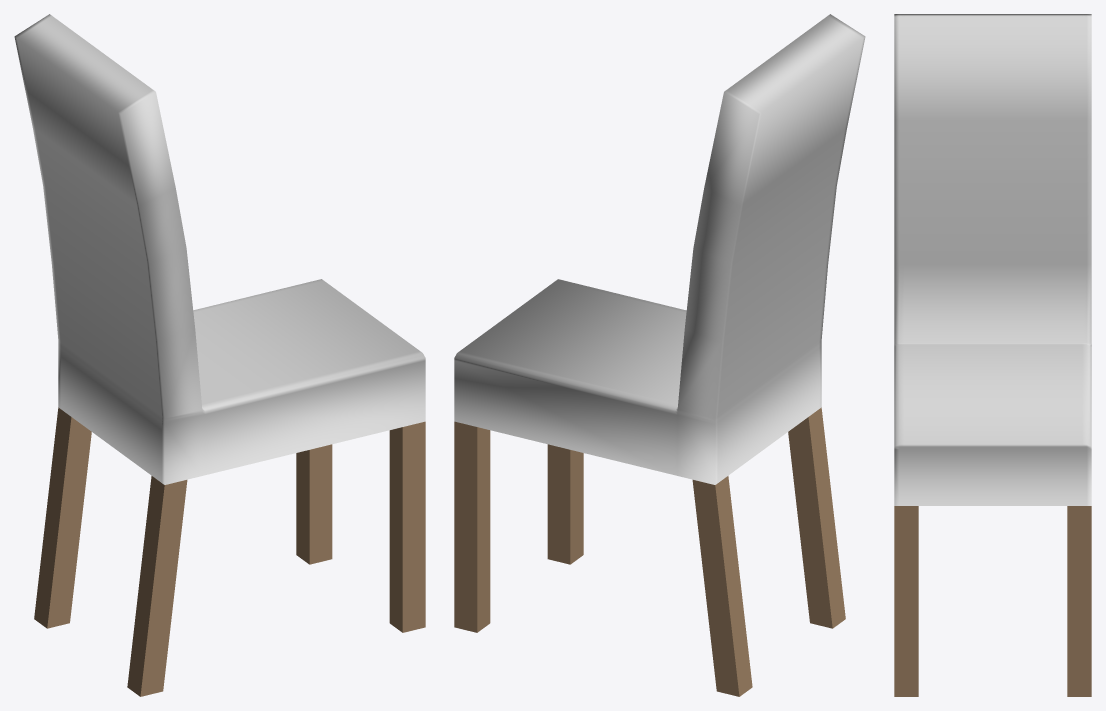
File: diningChar2.fbx
3 views of the same model, side by side, from view 1: azimuth 30°, elevation 25°; view 2: azimuth 150°, elevation 25°; view 3: azimuth 270°, elevation 25° (orthographic). The views are drawn at different scales.
Visible parts, largest first — view 1: Puta, BakBen.001, BakBen, Cube.001, Cube.002; view 2: Puta, BakBen, BakBen.001, Cube.002, Cube.001; view 3: Puta, Cube.001, Cube.002.
Part boxes in pixels (x1,y1,x2,y2): Puta: (14,14,425,484); BakBen.001: (127,476,187,696); BakBen: (34,407,91,628); Cube.001: (389,421,425,632); Cube.002: (296,444,332,564); Puta: (454,14,865,484); BakBen: (692,476,752,696); BakBen.001: (788,407,845,628); Cube.002: (454,421,490,632); Cube.001: (547,444,583,564); Puta: (894,14,1091,505); Cube.001: (894,506,918,696); Cube.002: (1067,506,1091,696).
Bounding box in the file's own units: 346 × 653 × 209.
